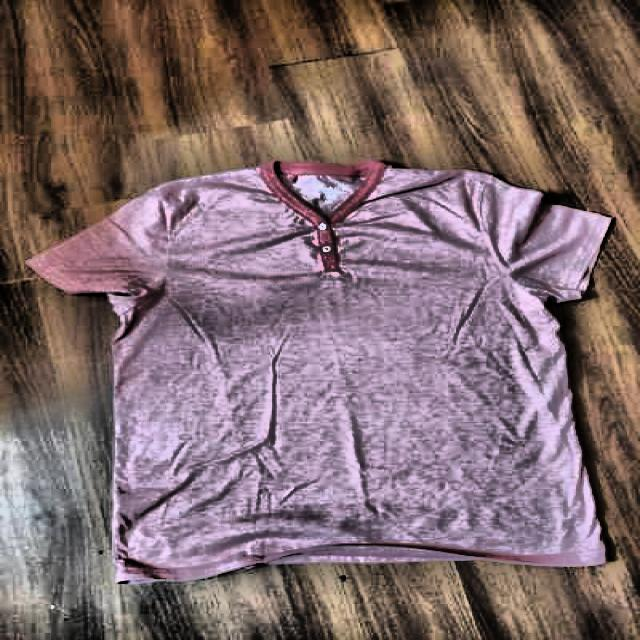clothes: (19, 161, 619, 574)
